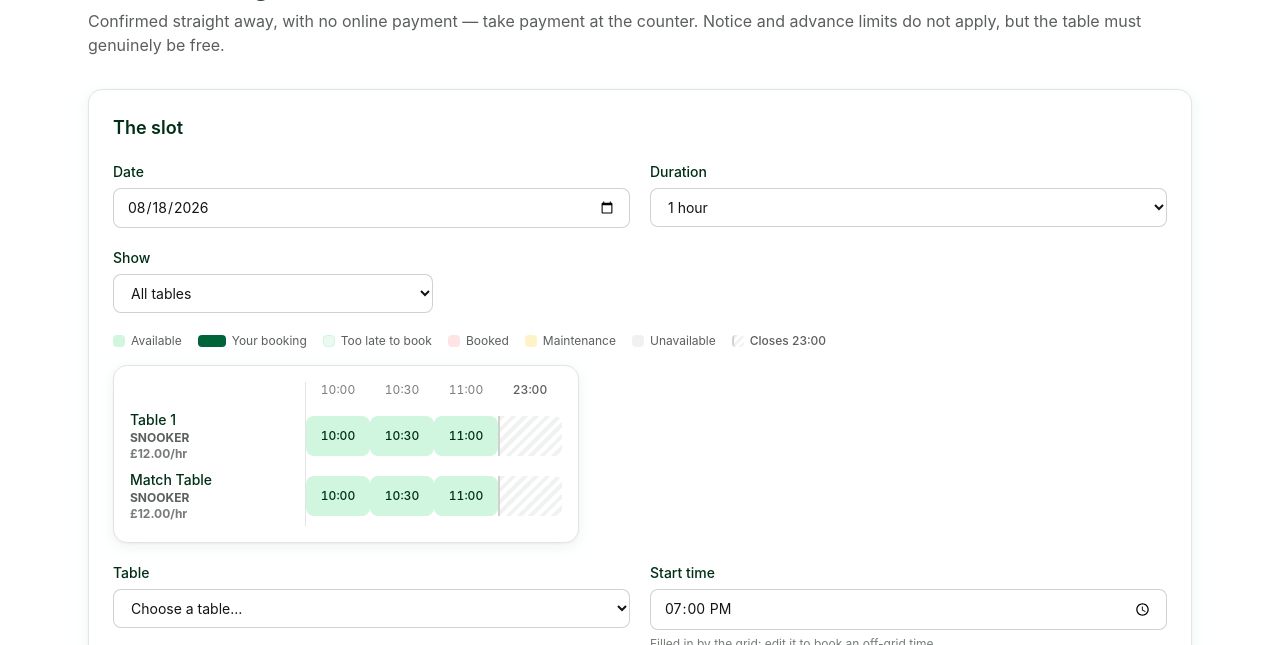
Scenario: AdminTelephoneBookingPage › lets staff overwrite the grid’s time with one the grid does not offer
The width and height of the screenshot is (1280, 645).
Click the button named "10:00 — available": (338, 436) [306,416,370,456]
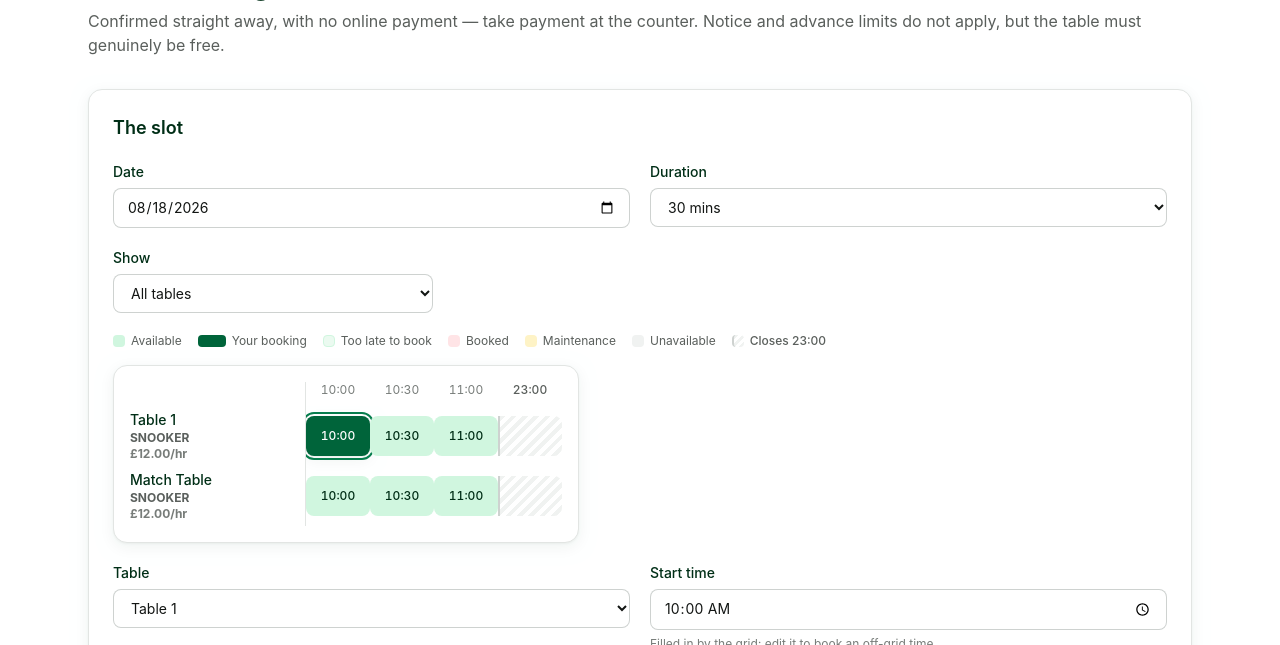
Replace the text in the time field labelled "Start time" with "10:17": (908, 609) [650,589,1167,630]
(page scrolled)
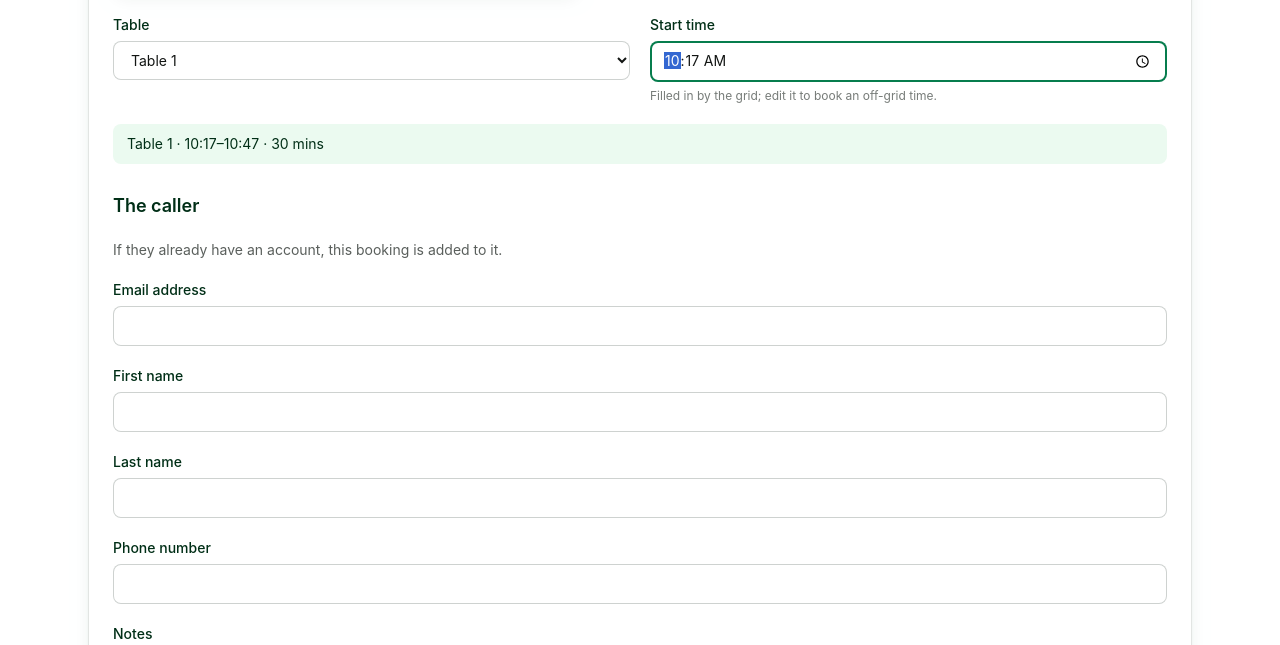
In the field labelled "Email address": (640, 326) [113,306,1167,346], type "caller@example.test"
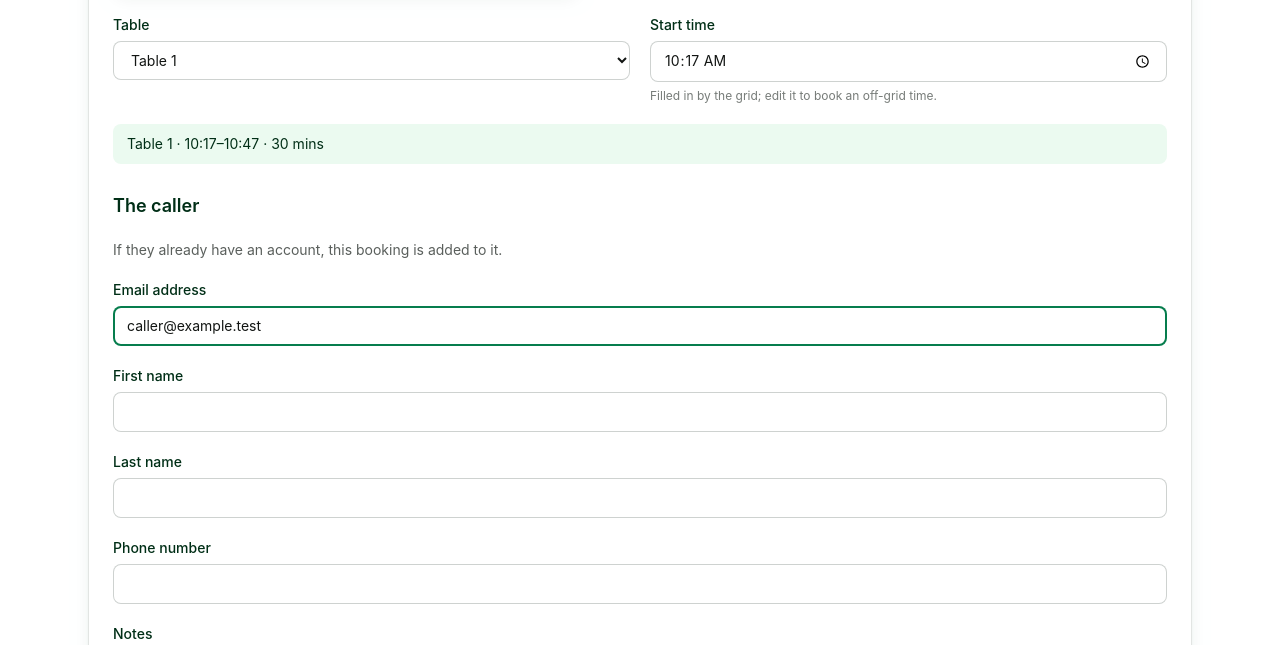
In the field labelled "First name": (640, 412) [113,392,1167,432], type "Phone"
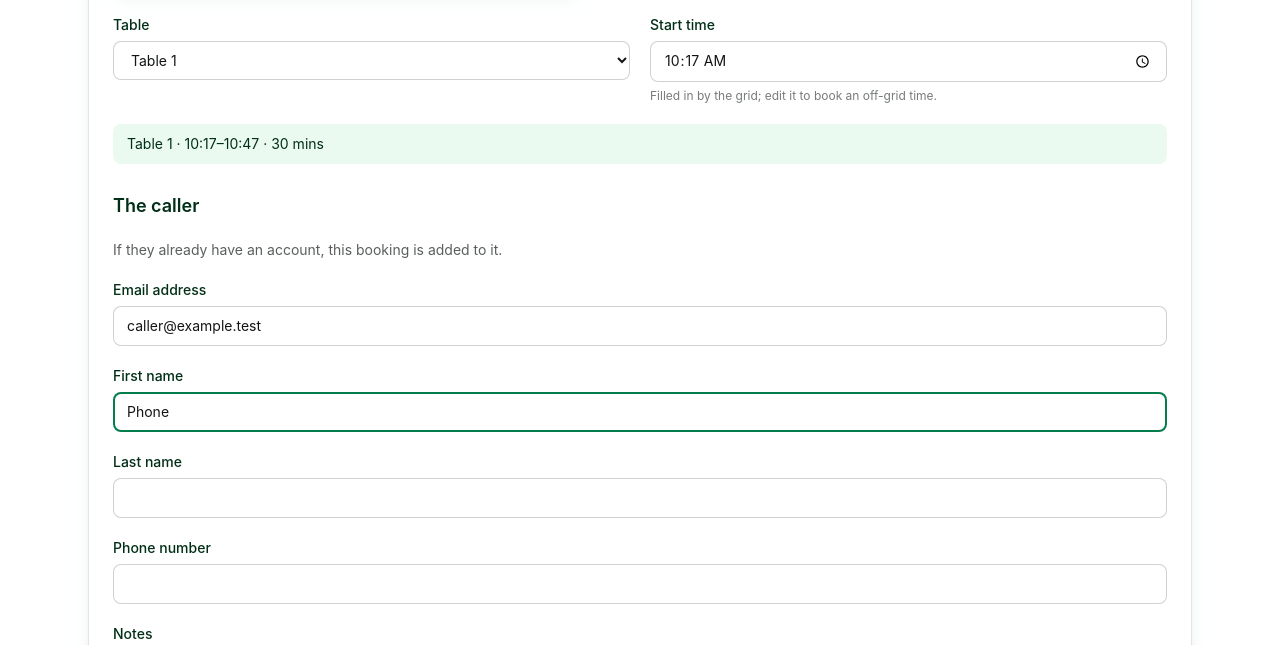
In the field labelled "Last name": (640, 498) [113,478,1167,518], type "Caller"
(page scrolled)
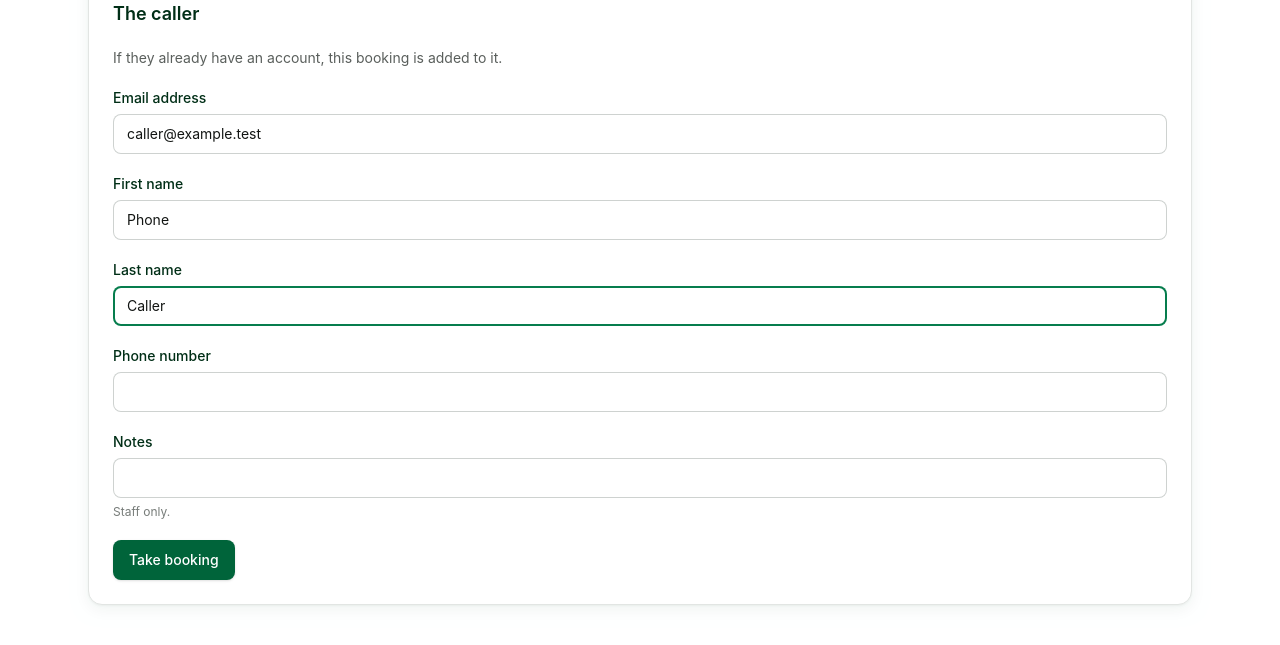
Click the button "Take booking": (174, 560) [113,540,235,580]
(page scrolled)
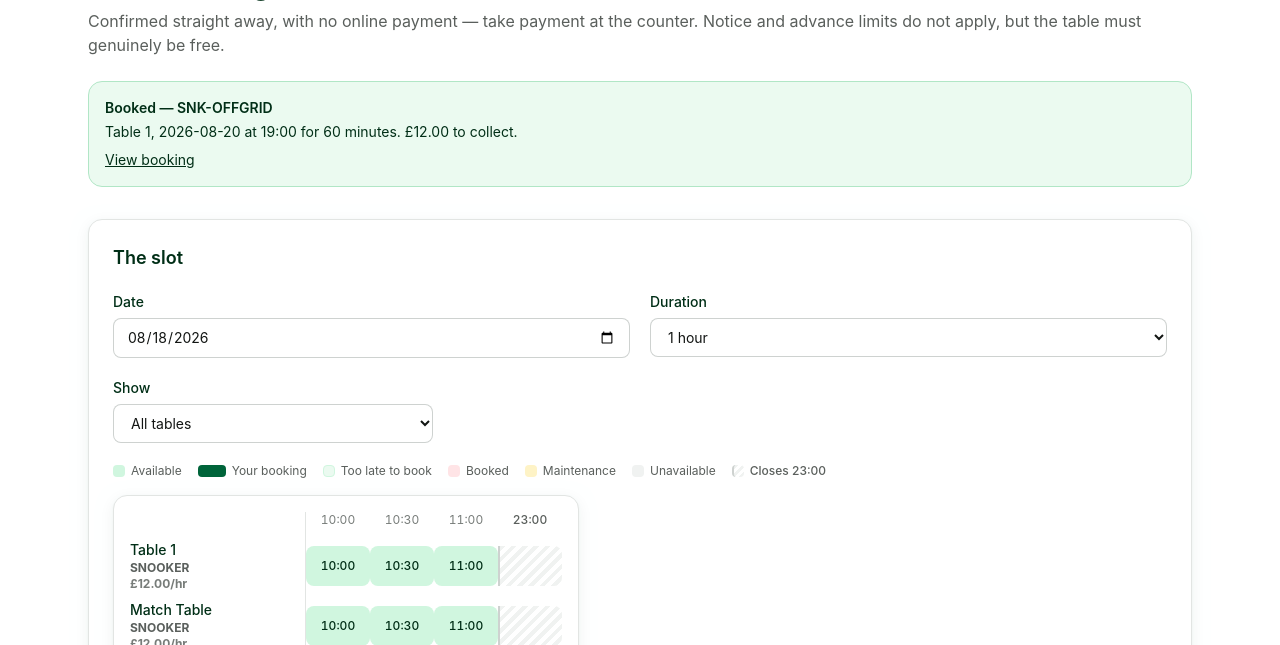
Expected: the text "Booked — SNK-OFFGRID" is shown, [105,99,273,116]
